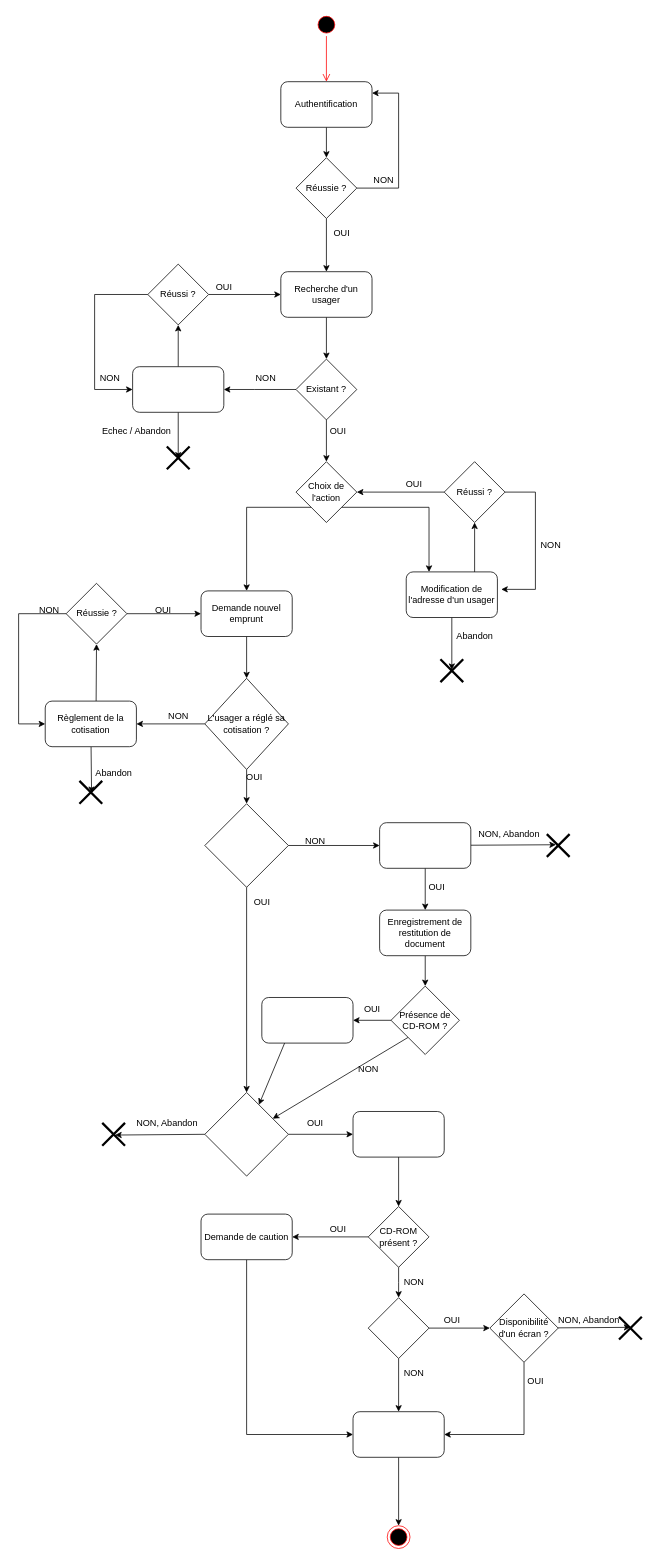
Some shapes in this 656 by 1562 pixel diagram are drawn without their labels. Here are the shapes that lost their labels. From the top down, the centre of each, then its label:
At pixel 178 389: "Enregistrer nouvel usager".
At pixel 246 845: "L'usager a - de 5 emprunts ?".
At pixel 425 845: "Possibilité pour l'usager de rendre un emprunt ?".
At pixel 307 1020: "Restitution de la caution".
At pixel 246 1134: "Disponibilité document(s) ?".
At pixel 398 1134: "Vérification document(s)".
At pixel 398 1327: "Microfilm présent ?".
At pixel 398 1434: "Validation enregistrement emprunt".
